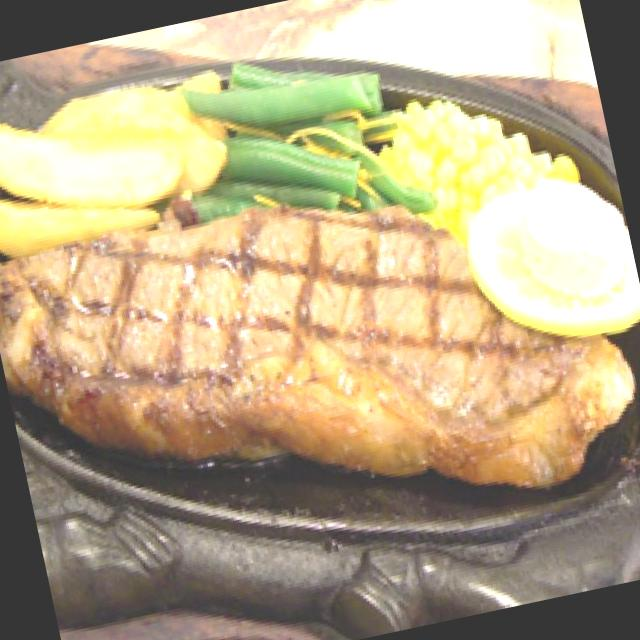Beef Steak: (0, 172, 539, 581)
